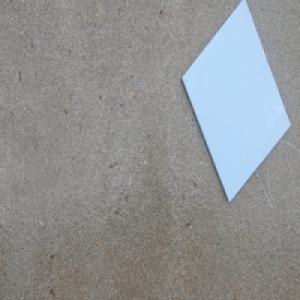PaintChip: (181, 0, 292, 204)
